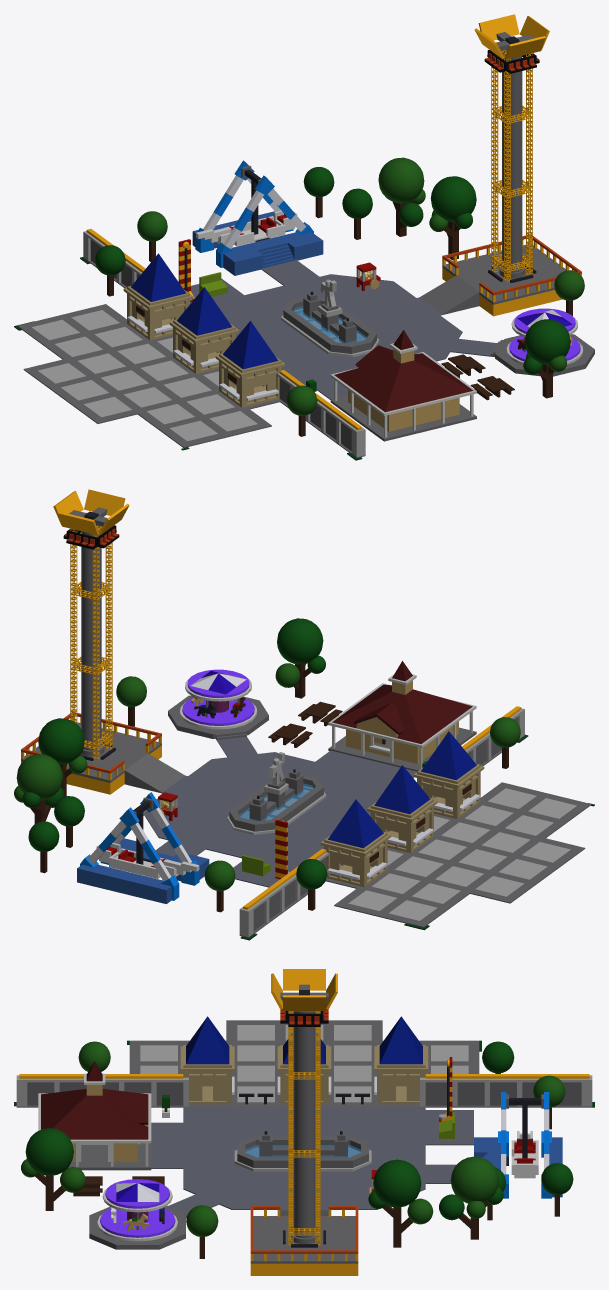
File: map_5.obj
The picture shows the model from 3 angles, top to bottom: view 1: azimuth 30°, elevation 25°; view 2: azimuth 150°, elevation 25°; view 3: azimuth 270°, elevation 25°; orthographic projection. The views are drawn at different scales.
Visible parts, largest first — view 1: Dropplatformanchored1, Foliage12, Foliage6, Foliage16, Dropplatformanchored2, Path35, Path36, Path25, Path24, Path39, Path102, Path38 (+24 smaller); view 2: Dropplatformanchored1, Foliage6, Foliage16, Foliage12, Part304, Path11, Path36, Path35, Path41, Path22, Truss11, Truss6 (+38 smaller); view 3: Dropplatformanchored1, Foliage16, Foliage6, Foliage12, Dropplatformanchored2, Part304, Path26, Path37, Path80, Path100, Path25, Path41 (+70 smaller).
Boxes of the visible parts, bbox=[...] form: Dropplatformanchored1: bbox=[442, 244, 565, 304]; Foliage12: bbox=[378, 157, 424, 203]; Foliage6: bbox=[525, 319, 570, 364]; Foliage16: bbox=[430, 176, 476, 221]; Dropplatformanchored2: bbox=[442, 267, 562, 316]; Path35: bbox=[377, 298, 438, 324]; Path36: bbox=[400, 315, 462, 341]; Path25: bbox=[215, 293, 273, 319]; Path24: bbox=[354, 281, 415, 307]; Path39: bbox=[280, 345, 342, 370]; Path102: bbox=[261, 260, 319, 285]; Path38: bbox=[261, 328, 315, 353]; Dropplatformanchored1: bbox=[21, 722, 161, 782]; Foliage6: bbox=[277, 618, 323, 664]; Foliage16: bbox=[38, 718, 84, 764]; Foliage12: bbox=[16, 754, 62, 800]; Part304: bbox=[182, 697, 254, 725]; Path11: bbox=[199, 830, 261, 857]; Path36: bbox=[188, 759, 250, 785]; Path35: bbox=[166, 776, 227, 802]; Path41: bbox=[332, 771, 391, 798]; Path22: bbox=[158, 820, 221, 846]; Truss11: bbox=[92, 640, 99, 754]; Truss6: bbox=[105, 631, 112, 745]; Dropplatformanchored1: bbox=[250, 1216, 358, 1263]; Foliage16: bbox=[373, 1159, 421, 1207]; Foliage6: bbox=[25, 1128, 73, 1175]; Foliage12: bbox=[450, 1156, 498, 1203]; Dropplatformanchored2: bbox=[250, 1263, 358, 1275]; Part304: bbox=[100, 1208, 175, 1237]; Path26: bbox=[377, 1106, 425, 1127]; Path37: bbox=[183, 1106, 231, 1127]; Path80: bbox=[328, 1106, 376, 1127]; Path100: bbox=[232, 1106, 280, 1127]; Path25: bbox=[377, 1127, 425, 1147]; Path41: bbox=[183, 1127, 231, 1147].
Bounding box in the file's own units: 224 × 112 × 216.
